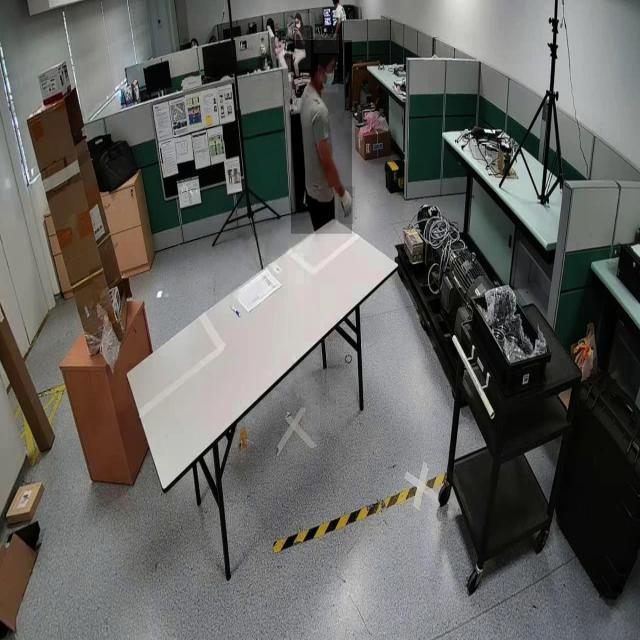face_mask: (318, 55, 338, 93), (294, 18, 306, 28)
hand_glove: (338, 187, 356, 225)
head_nohelmet: (314, 34, 339, 54), (266, 16, 274, 24), (293, 12, 301, 18)
person: (291, 40, 353, 235), (294, 14, 312, 70)
